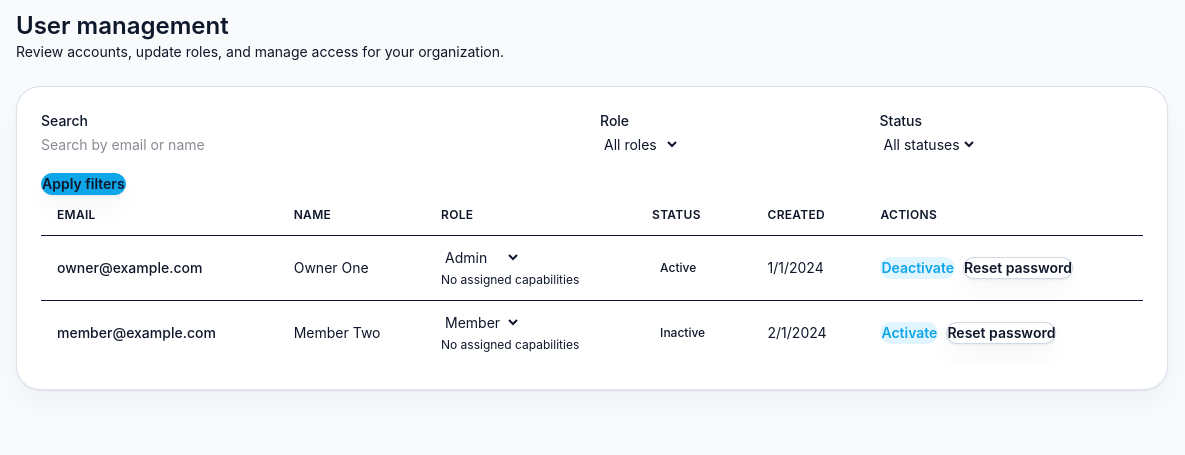
Test: admin users page › updates a user role and shows a confirmation
The image size is (1185, 455).
Step 1. Select "Admin" in the dropdown named "change role" → (481, 322), box [441,313,521,332]
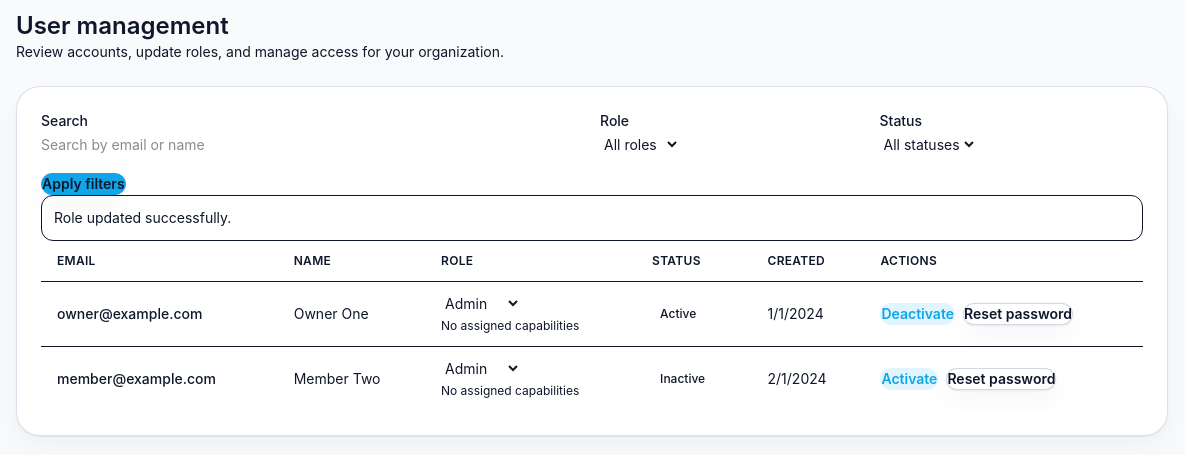
Check: the message reads "Role updated successfully.", box [54,209,231,226]
